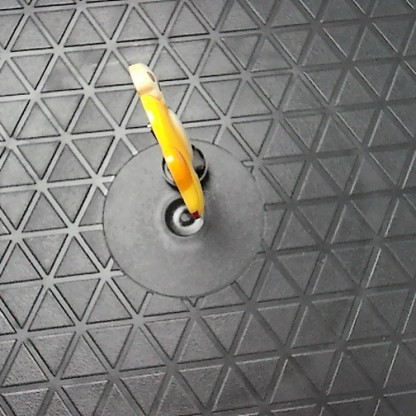dogclip: (121, 60, 205, 218)
